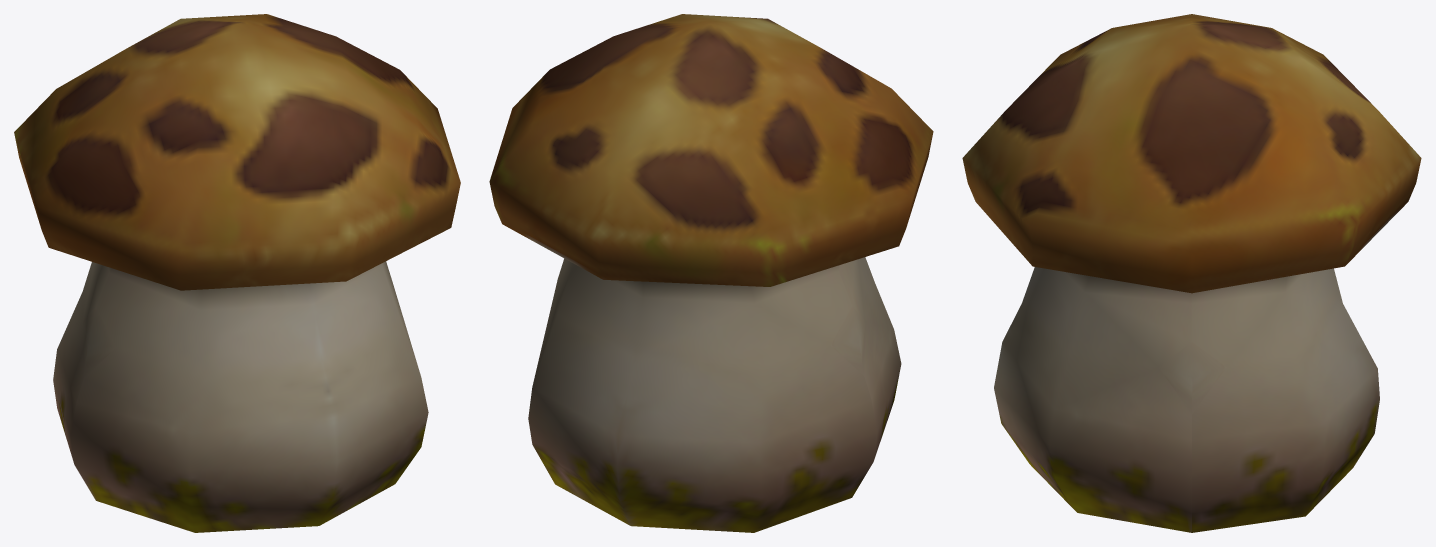
File: Wujian_mugu_001.FBX
The picture shows the model from 3 angles, left to right: view 1: azimuth 30°, elevation 25°; view 2: azimuth 150°, elevation 25°; view 3: azimuth 270°, elevation 25°; orthographic projection.
Parts seen in each view (by area): view 1: Wujian_mugu_001; view 2: Wujian_mugu_001; view 3: Wujian_mugu_001.
Part boxes in pixels (bbox=[...]): Wujian_mugu_001: bbox=[14, 14, 460, 532]; Wujian_mugu_001: bbox=[489, 14, 933, 532]; Wujian_mugu_001: bbox=[962, 14, 1421, 532].
Bounding box in the file's own units: 60.72 × 69.06 × 60.72.
